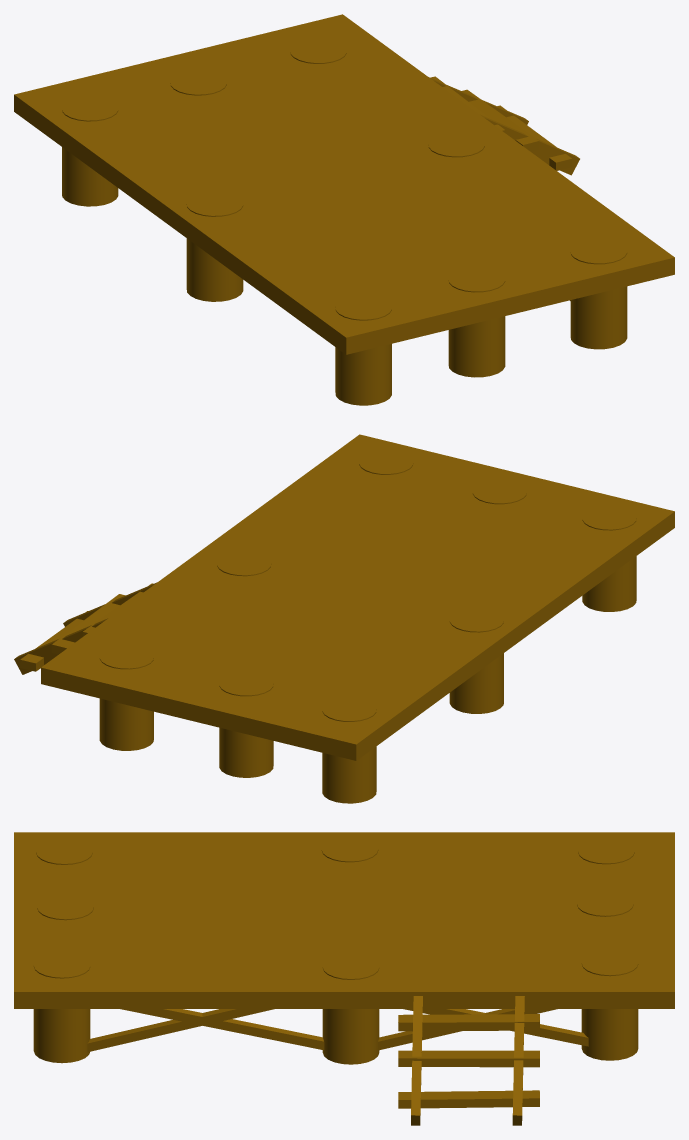
File: Stage.fbx
3 views of the same model, one above another, from view 1: azimuth 30°, elevation 25°; view 2: azimuth 150°, elevation 25°; view 3: azimuth 270°, elevation 25° (orthographic). The views are drawn at different scales.
Visible parts, largest first — view 1: pCube1, pCylinder4, pasted__pCylinder4, pasted__pCylinder6, pasted__pasted__pCylinder5, pasted__pasted__pCylinder4, pasted__pCylinder5, pasted__pasted__pCylinder6, pasted__pasted__pasted__pCylinder4, pasted__pasted__pasted__pCube2, pasted__pasted__pasted__pasted__pasted__pasted__pCube2, pasted__pasted__pasted__pasted__pasted__pasted__pasted__pCub; view 2: pCube1, pasted__pasted__pCylinder4, pasted__pasted__pasted__pCylinder4, pasted__pasted__pCylinder6, pasted__pasted__pCylinder5, pasted__pCylinder4, pasted__pCylinder6, pasted__pCylinder5, pCylinder4, pasted__pasted__pasted__pasted__pasted__pasted__pCube2, pasted__pasted__pasted__pasted__pCube2, pasted__pasted__pasted__pasted__pasted__pasted__pasted__pCub; view 3: pCube1, pasted__pCylinder5, pCylinder4, pasted__pasted__pasted__pCylinder4, pasted__pasted__pasted__pasted__pasted__pasted__pCube2, pasted__pasted__pasted__pasted__pasted__pCube2, pasted__pasted__pasted__pasted__pasted__pasted__pasted__pCub, pasted__pCube2, pCube2, pasted__pasted__pasted__pasted__pCube2, pasted__pasted__pasted__pCube2, pasted__pasted__pCylinder5 (+6 smaller).
Part boxes in pixels (left/top/right/bottom): pCube1: left=14, top=14, right=674, bottom=354; pCylinder4: left=570, top=239, right=627, bottom=349; pasted__pCylinder4: left=335, top=295, right=391, bottom=405; pasted__pCylinder6: left=448, top=267, right=505, bottom=377; pasted__pasted__pCylinder5: left=186, top=192, right=243, bottom=301; pasted__pasted__pCylinder4: left=62, top=96, right=118, bottom=206; pasted__pCylinder5: left=428, top=132, right=484, bottom=157; pasted__pasted__pCylinder6: left=170, top=70, right=226, bottom=95; pasted__pasted__pasted__pCylinder4: left=290, top=39, right=346, bottom=63; pasted__pasted__pasted__pCube2: left=480, top=114, right=579, bottom=175; pasted__pasted__pasted__pasted__pasted__pasted__pCube2: left=462, top=89, right=539, bottom=151; pasted__pasted__pasted__pasted__pasted__pasted__pasted__pCub: left=497, top=105, right=572, bottom=170; pCube1: left=41, top=434, right=674, bottom=760; pasted__pasted__pCylinder4: left=322, top=698, right=376, bottom=803; pasted__pasted__pasted__pCylinder4: left=99, top=645, right=153, bottom=750; pasted__pasted__pCylinder6: left=219, top=672, right=273, bottom=777; pasted__pasted__pCylinder5: left=449, top=608, right=503, bottom=713; pasted__pCylinder4: left=582, top=506, right=636, bottom=611; pasted__pCylinder6: left=472, top=480, right=526, bottom=504; pasted__pCylinder5: left=217, top=552, right=271, bottom=576; pCylinder4: left=359, top=451, right=413, bottom=474; pasted__pasted__pasted__pasted__pasted__pasted__pCube2: left=51, top=594, right=125, bottom=654; pasted__pasted__pasted__pasted__pCube2: left=14, top=618, right=107, bottom=674; pasted__pasted__pasted__pasted__pasted__pasted__pasted__pCub: left=20, top=611, right=88, bottom=671; pCube1: left=14, top=832, right=674, bottom=1008; pasted__pCylinder5: left=322, top=955, right=379, bottom=1064; pCylinder4: left=33, top=953, right=90, bottom=1063; pasted__pasted__pasted__pCylinder4: left=581, top=951, right=638, bottom=1060; pasted__pasted__pasted__pasted__pasted__pasted__pCube2: left=398, top=1050, right=539, bottom=1067; pasted__pasted__pasted__pasted__pasted__pCube2: left=398, top=1014, right=539, bottom=1031; pasted__pasted__pasted__pasted__pasted__pasted__pasted__pCub: left=398, top=1090, right=539, bottom=1108; pasted__pCube2: left=120, top=1009, right=324, bottom=1050; pCube2: left=87, top=1009, right=274, bottom=1052; pasted__pasted__pasted__pasted__pCube2: left=512, top=996, right=524, bottom=1125; pasted__pasted__pasted__pCube2: left=411, top=996, right=422, bottom=1125; pasted__pasted__pCylinder5: left=321, top=837, right=378, bottom=862.
Size of the model in its own units: 5.28 by 1.03 by 7.
